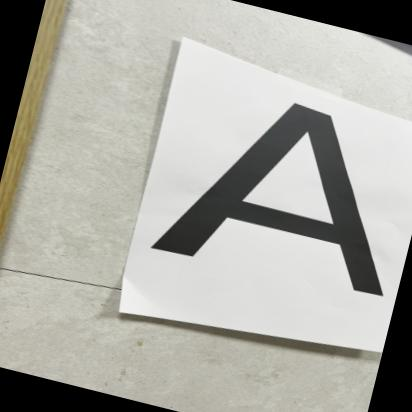seat: (142, 65, 412, 312)
